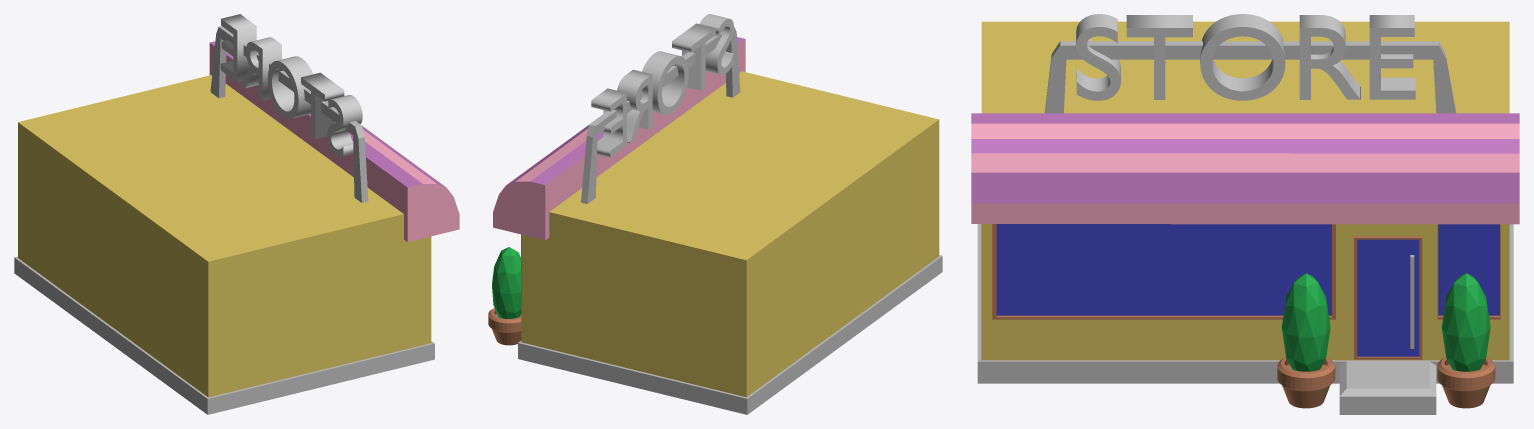
Rendered from Магазин.fbx.
The picture shows the model from 3 angles, left to right: view 1: azimuth 30°, elevation 25°; view 2: azimuth 150°, elevation 25°; view 3: azimuth 270°, elevation 25°; orthographic projection. The views are drawn at different scales.
Visible parts, largest first — view 1: Cube, Text; view 2: Cube, Text; view 3: Cube, Text.
Boxes of the visible parts, <box> form: Cube: <box>14,26,459,414</box>; Text: <box>220,14,362,156</box>; Cube: <box>488,26,942,414</box>; Text: <box>591,14,733,157</box>; Cube: <box>971,21,1519,414</box>; Text: <box>1076,14,1415,100</box>.
Size of the model in its own units: 376 by 315 by 472.
